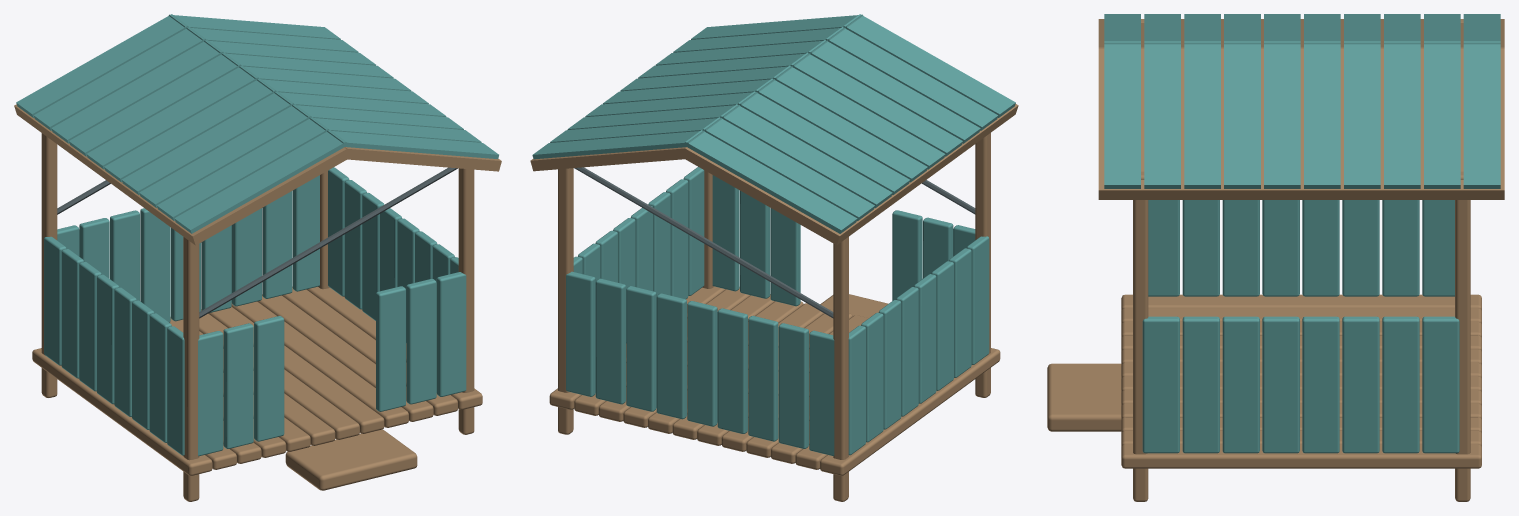
Rendered from castaway-island-escape-abandoned-lookout-hut-0b5bda9e__28073.glb.
3 views of the same model, side by side, from view 1: azimuth 30°, elevation 25°; view 2: azimuth 150°, elevation 25°; view 3: azimuth 270°, elevation 25° (orthographic). The views are drawn at different scales.
Parts seen in each view (by area): view 1: abandoned-lookout-hut-teal, abandoned-lookout-hut-wood, abandoned-lookout-hut-iron; view 2: abandoned-lookout-hut-teal, abandoned-lookout-hut-wood, abandoned-lookout-hut-iron; view 3: abandoned-lookout-hut-teal, abandoned-lookout-hut-wood.
Boxes of the visible parts, box(x1,y1,x2,y2) form: abandoned-lookout-hut-teal: box(16, 14, 498, 456); abandoned-lookout-hut-wood: box(14, 104, 501, 501); abandoned-lookout-hut-iron: box(57, 167, 457, 318); abandoned-lookout-hut-teal: box(532, 14, 1015, 456); abandoned-lookout-hut-wood: box(530, 104, 1018, 501); abandoned-lookout-hut-iron: box(574, 167, 975, 318); abandoned-lookout-hut-teal: box(1104, 14, 1500, 453); abandoned-lookout-hut-wood: box(1047, 19, 1504, 501).
Size of the model in its own units: 3.15 by 3.27 by 3.55.
